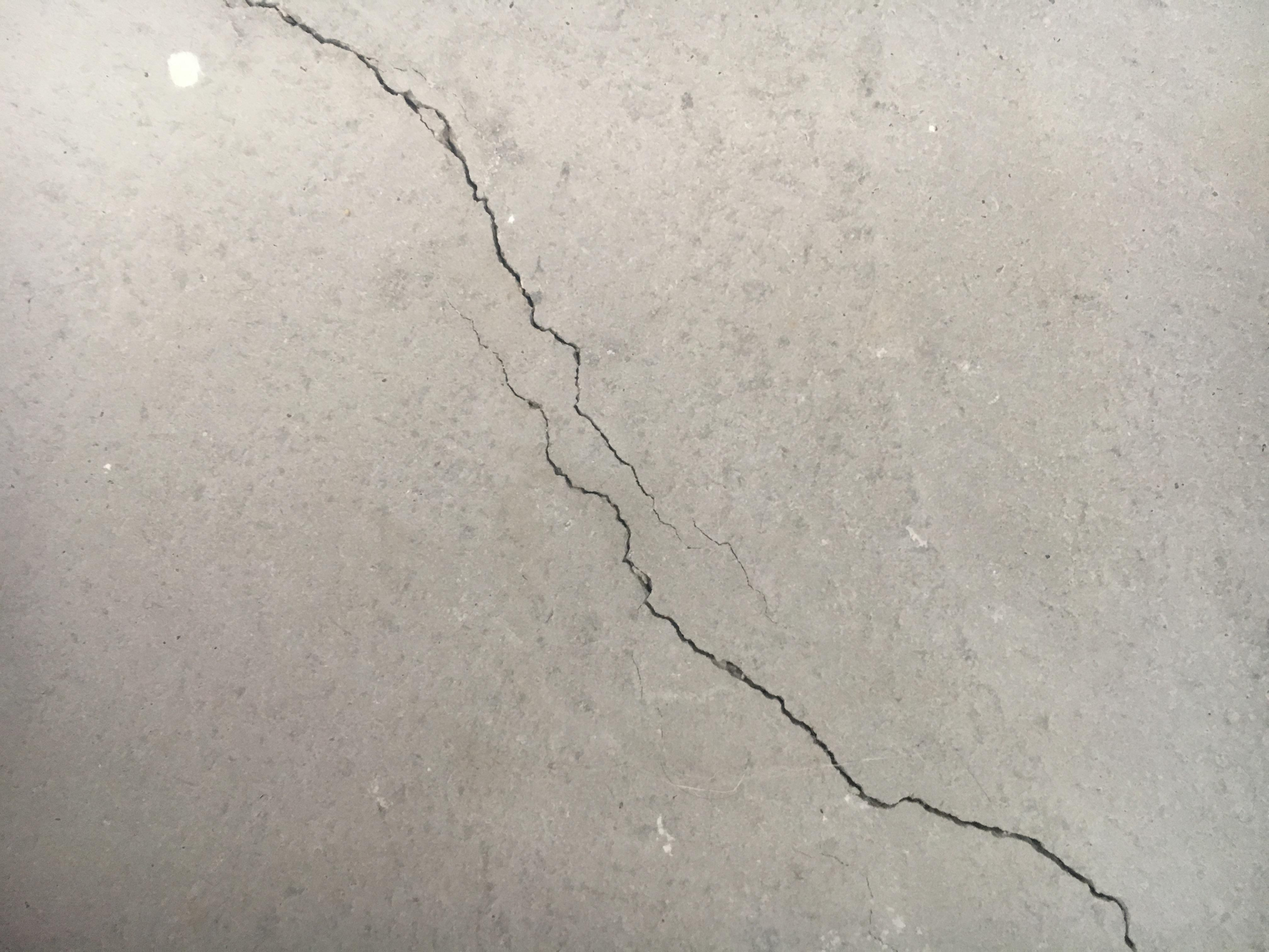Diagonal Crack: (229, 2, 1139, 948)
